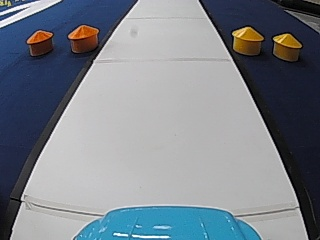granary: (229, 23, 264, 55), (66, 22, 100, 53), (271, 31, 302, 61), (25, 27, 53, 56)
